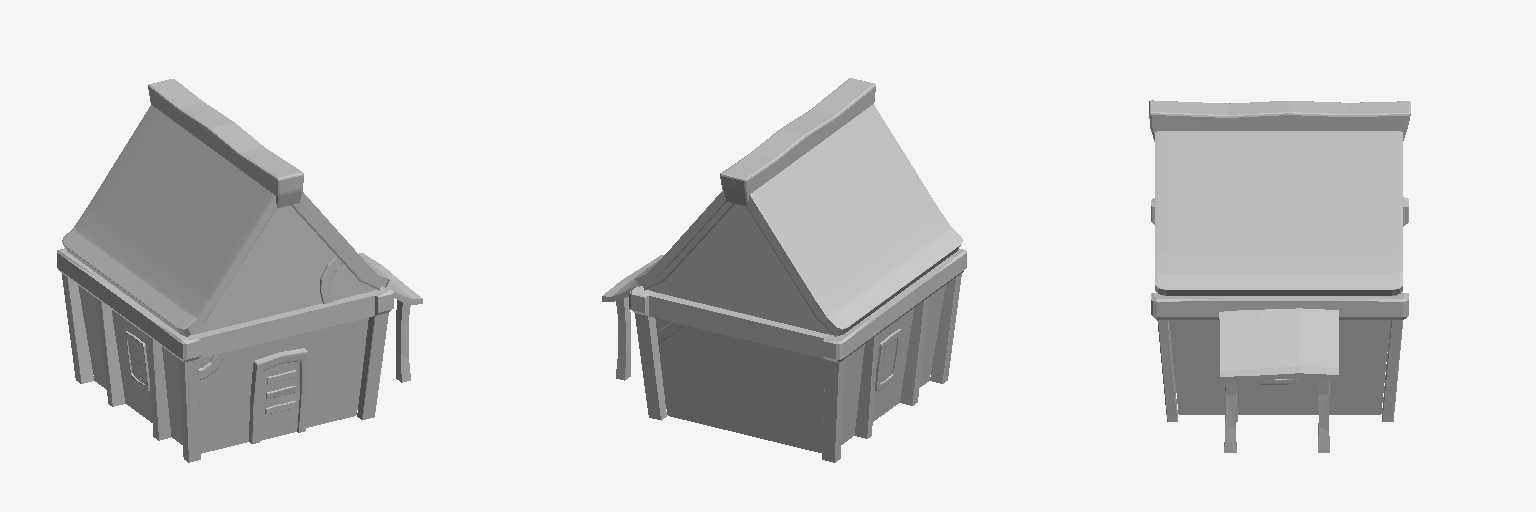
The model's file is SM_cottageA.obj.
3 views of the same model, side by side, from view 1: azimuth 30°, elevation 25°; view 2: azimuth 150°, elevation 25°; view 3: azimuth 270°, elevation 25° (orthographic).
Parts seen in each view (by area): view 1: maison_toit, maison_base, charpente.001, Cube.003, porte.001, cabanon_pied, poutres_maison_support, cabanon_toit, porte_ornements, fenetre_cadre, Cube; view 2: maison_base, maison_toit, charpente.001, Cube.003, poutres_maison_support, cabanon_pied, cabanon_toit, fenetre_cadre; view 3: maison_toit, maison_base, cabanon_toit, charpente.001, Cube.003, cabanon_pied.
Boxes of the visible parts, x1,y1,x2,y2 form: maison_toit: [62, 105, 389, 336]; maison_base: [78, 205, 376, 453]; charpente.001: [57, 248, 393, 462]; Cube.003: [148, 79, 303, 207]; porte.001: [249, 348, 308, 443]; cabanon_pied: [396, 300, 410, 382]; poutres_maison_support: [187, 203, 380, 336]; cabanon_toit: [359, 253, 422, 304]; porte_ornements: [265, 370, 296, 413]; fenetre_cadre: [123, 331, 150, 391]; Cube: [320, 255, 342, 303]; maison_base: [647, 204, 945, 452]; maison_toit: [635, 104, 962, 335]; charpente.001: [629, 249, 966, 462]; Cube.003: [720, 78, 875, 205]; poutres_maison_support: [643, 202, 836, 336]; cabanon_pied: [616, 297, 630, 380]; cabanon_toit: [602, 255, 663, 301]; fenetre_cadre: [875, 329, 901, 390]; maison_toit: [1155, 131, 1402, 295]; maison_base: [1169, 320, 1390, 414]; cabanon_toit: [1219, 308, 1338, 381]; charpente.001: [1151, 197, 1408, 421]; Cube.003: [1149, 100, 1410, 141]; cabanon_pied: [1224, 379, 1329, 452].
Size of the model in its own units: 6.72 by 6.34 by 5.56.